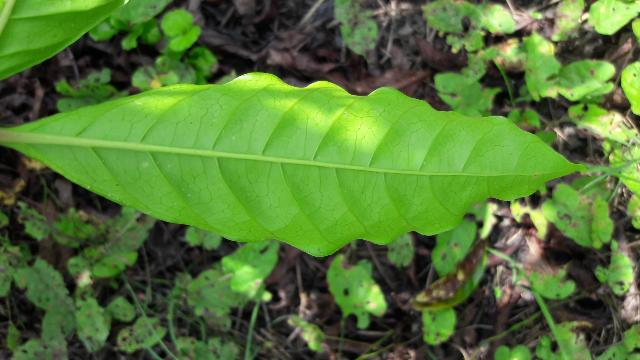healthy: (5, 79, 567, 247)
